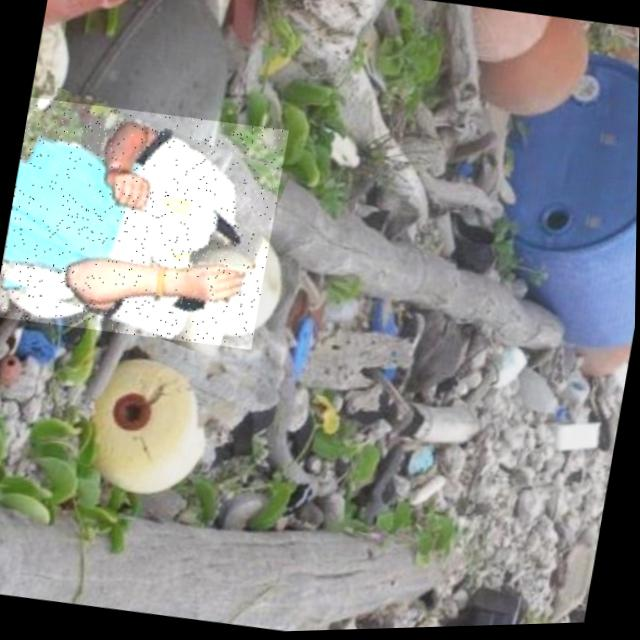Person in Rubble: (0, 91, 289, 357)
